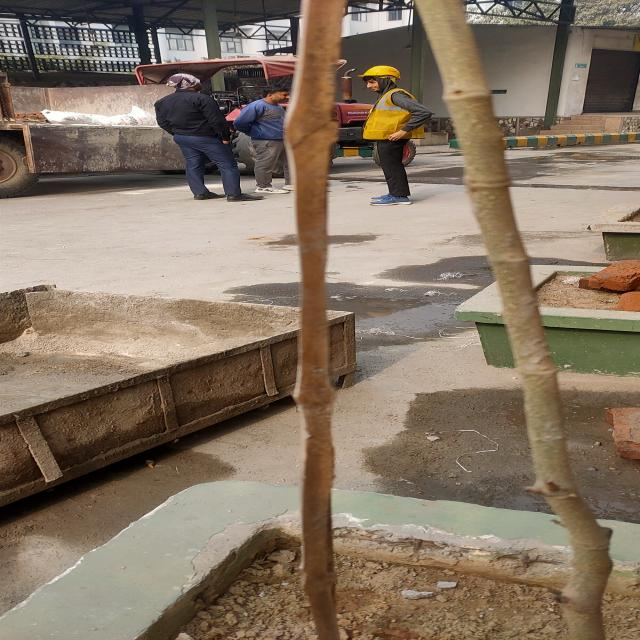unsafe: (152, 73, 265, 200), (357, 62, 432, 206), (237, 85, 297, 194)
